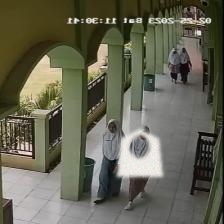Mukena: (116, 129, 163, 176)
